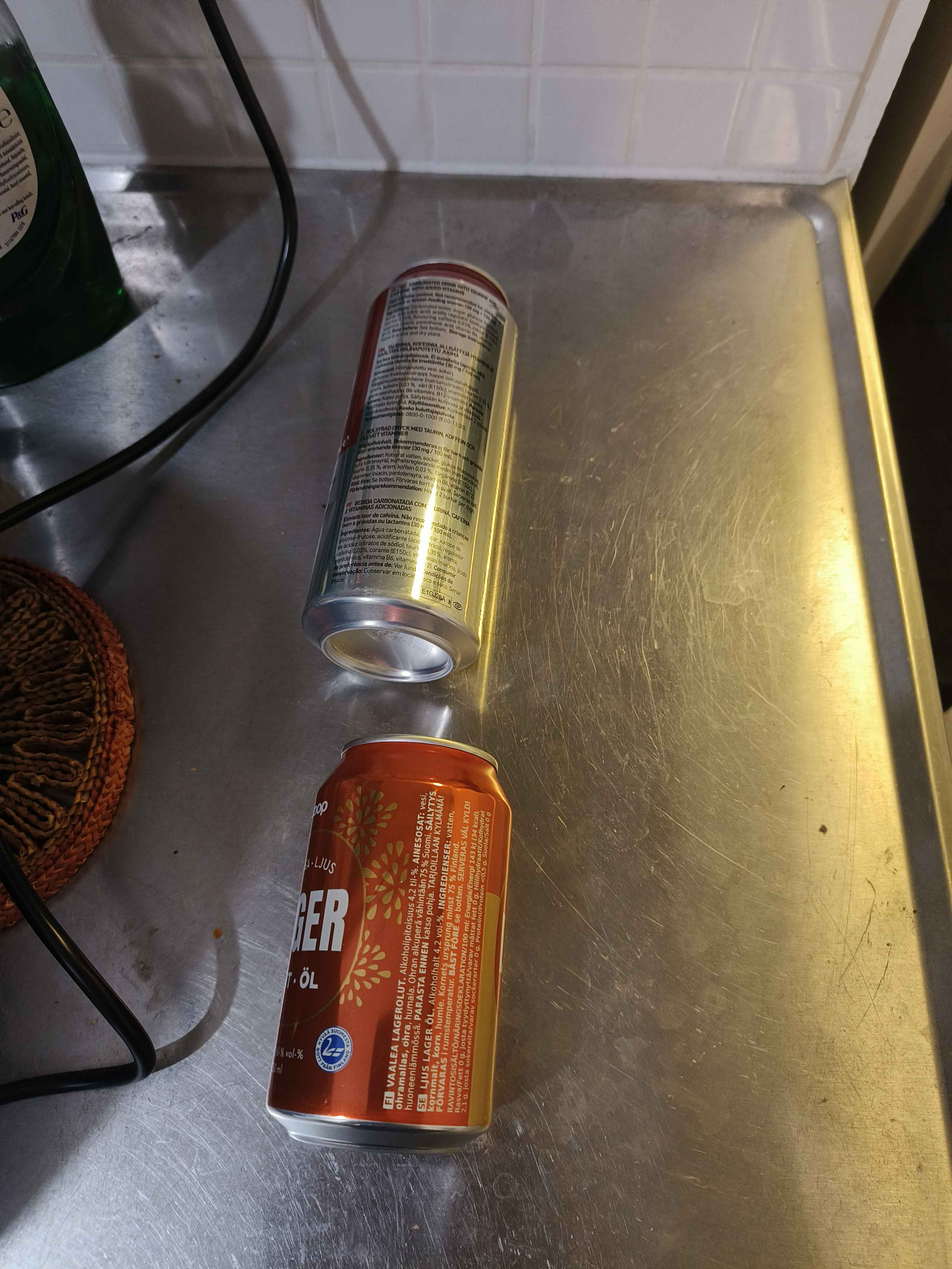Pantburk: (266, 733, 512, 1154), (300, 256, 519, 684)
